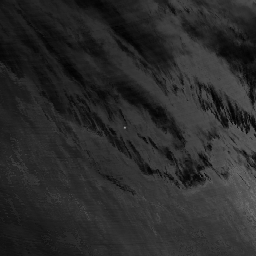Target: (123, 125, 126, 129)
